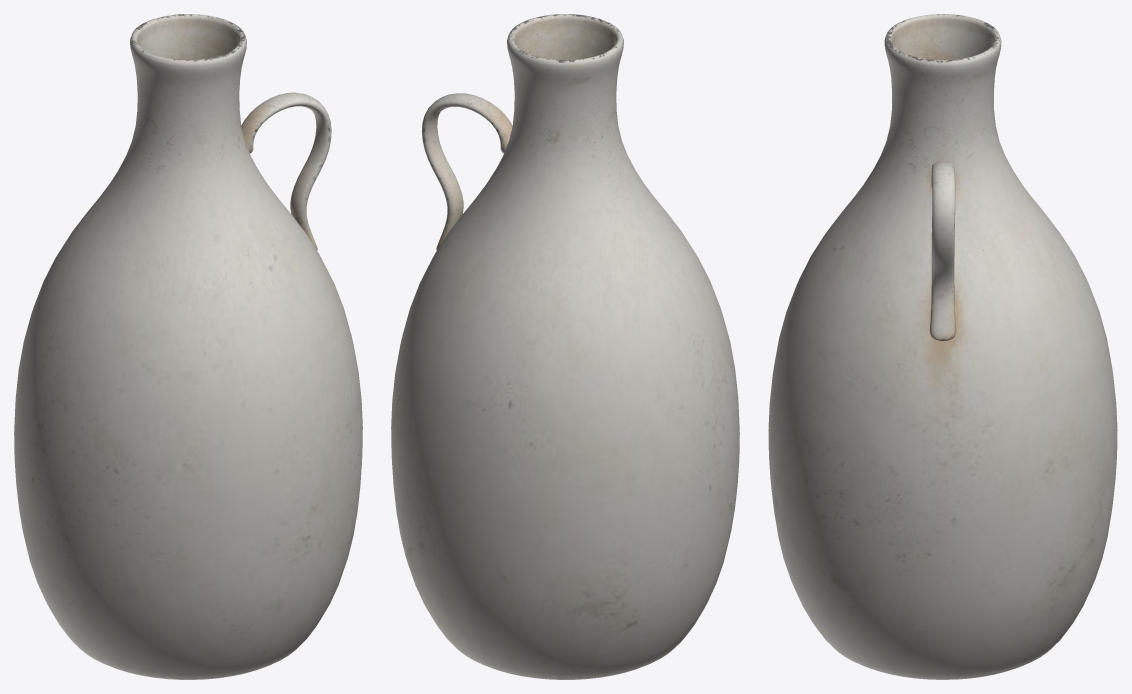
The model's file is ceramic_vase_04.glb.
3 renders of one model, left to right at view 1: azimuth 30°, elevation 25°; view 2: azimuth 150°, elevation 25°; view 3: azimuth 270°, elevation 25°, orthographic.
Parts seen in each view (by area): view 1: ceramic_vase_04; view 2: ceramic_vase_04; view 3: ceramic_vase_04.
Boxes of the visible parts, x1,y1,x2,y2 form: ceramic_vase_04: (14, 14, 362, 679); ceramic_vase_04: (391, 14, 739, 679); ceramic_vase_04: (768, 14, 1117, 679).
Size of the model in its own units: 0.1811 by 0.3419 by 0.1811.
Materials: 1 (1 with a texture image).
